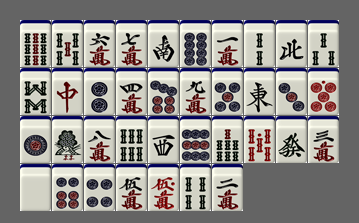0m: (148, 164, 179, 211)
0p: (308, 68, 339, 115)
0s: (244, 116, 275, 163)
1m: (212, 20, 243, 67)
1p: (20, 116, 51, 163)
1s: (52, 116, 83, 163)
1z: (244, 68, 275, 115)
2m: (212, 164, 243, 211)
2p: (84, 68, 115, 115)
2s: (244, 20, 275, 67)
2z: (148, 20, 179, 67)
3m: (308, 116, 339, 163)
3p: (276, 68, 307, 115)
3s: (308, 20, 339, 67)
3z: (148, 116, 179, 163)
4m: (116, 68, 147, 115)
4p: (84, 164, 115, 211)
4s: (180, 164, 211, 211)
4z: (276, 20, 307, 67)
5m: (116, 164, 147, 211)
5p: (212, 68, 243, 115)
5s: (52, 20, 83, 67)
5z: (20, 164, 51, 211)
6m: (84, 20, 115, 67)
6p: (52, 164, 83, 211)
6s: (116, 116, 147, 163)
6z: (276, 116, 307, 163)
7m: (116, 20, 147, 67)
7p: (148, 68, 179, 115)
7s: (212, 116, 243, 163)
7z: (52, 68, 83, 115)
8m: (84, 116, 115, 163)
8p: (180, 20, 211, 67)
8s: (20, 68, 51, 115)
9m: (180, 68, 211, 115)
9p: (180, 116, 211, 163)
9s: (20, 20, 51, 67)
